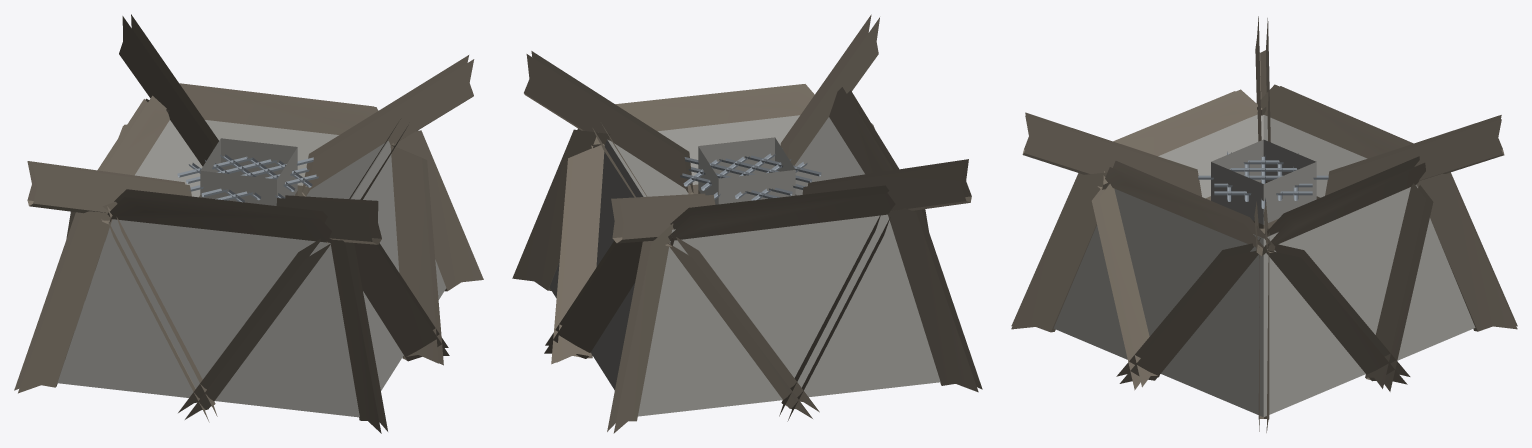
Rendered from Dome_Tile.fbx.
3 renders of one model, left to right at view 1: azimuth 30°, elevation 25°; view 2: azimuth 150°, elevation 25°; view 3: azimuth 270°, elevation 25°, orthographic. The views are drawn at different scales.
Parts seen in each view (by area): view 1: polySurface536, polySurface537, polySurface527, polySurface532, polySurface530, polySurface525, polySurface533, polySurface528, polySurface538, polySurface531, polySurface520, polySurface539 (+3 smaller); view 2: polySurface536, polySurface532, polySurface537, polySurface519, polySurface522, polySurface526, polySurface518, polySurface529, polySurface533, polySurface521, polySurface539, polySurface534 (+3 smaller); view 3: polySurface536, polySurface518, polySurface538, polySurface534, polySurface530, polySurface522, polySurface520, polySurface529, polySurface528, polySurface519, polySurface526, polySurface525 (+3 smaller).
Boxes of the visible parts, x1,y1,x2,y2 form: polySurface536: (57, 120, 446, 417); polySurface537: (14, 201, 117, 393); polySurface527: (107, 189, 332, 242); polySurface532: (301, 55, 474, 196); polySurface530: (390, 145, 443, 365); polySurface525: (179, 83, 394, 146); polySurface533: (27, 161, 191, 213); polySurface528: (354, 243, 449, 361); polySurface538: (331, 240, 387, 433); polySurface531: (178, 239, 330, 419); polySurface520: (119, 14, 218, 166); polySurface539: (394, 130, 483, 291); polySurface536: (549, 115, 940, 416); polySurface532: (524, 51, 693, 194); polySurface537: (888, 208, 982, 392); polySurface519: (668, 185, 895, 240); polySurface522: (551, 144, 604, 364); polySurface526: (591, 84, 814, 147); polySurface518: (607, 223, 673, 433); polySurface529: (544, 240, 642, 358); polySurface533: (802, 159, 971, 211); polySurface521: (668, 237, 819, 418); polySurface539: (512, 128, 613, 290); polySurface534: (780, 14, 879, 165); polySurface536: (1053, 114, 1475, 417); polySurface518: (1417, 172, 1517, 331); polySurface538: (1011, 172, 1108, 332); polySurface534: (1022, 112, 1201, 196); polySurface530: (1116, 243, 1258, 383); polySurface522: (1266, 243, 1410, 384); polySurface520: (1325, 115, 1504, 195); polySurface529: (1365, 183, 1433, 391); polySurface528: (1091, 184, 1159, 390); polySurface519: (1257, 84, 1417, 186); polySurface526: (1105, 161, 1275, 252); polySurface525: (1258, 156, 1425, 248).
Size of the model in its own units: 14.02 by 6.71 by 14.06.
